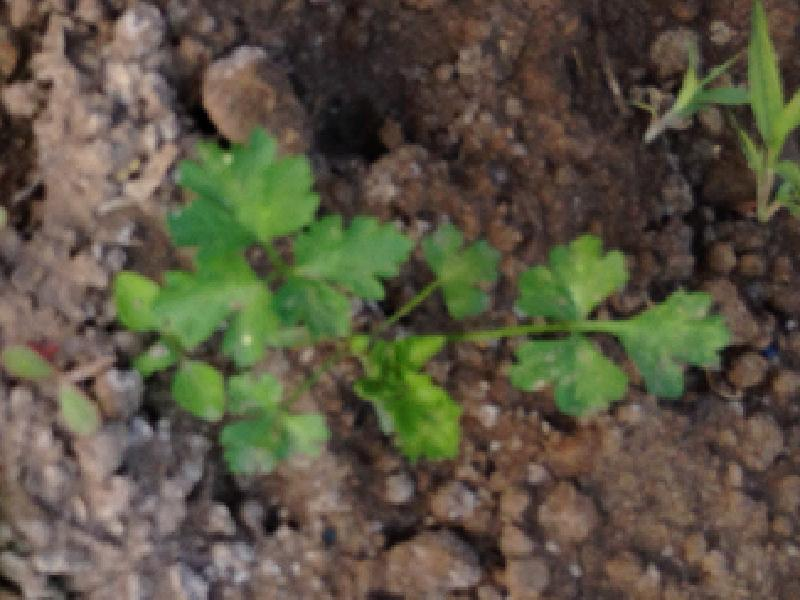radish: (0, 25, 800, 600)
